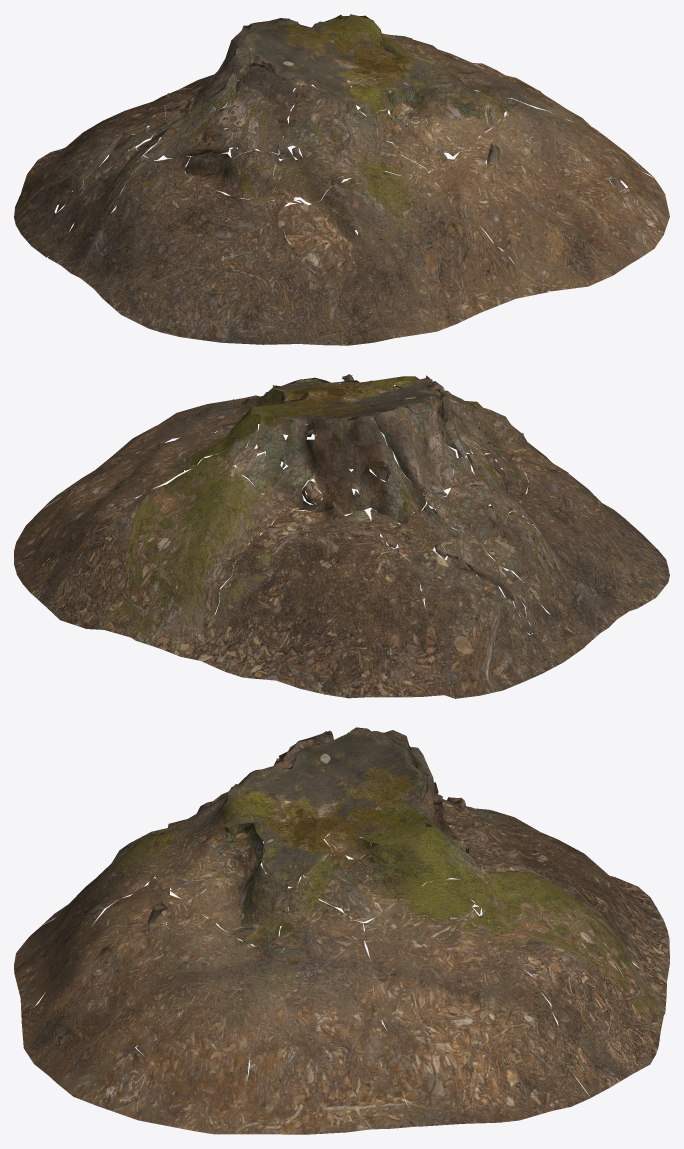
Rendered from ph-tree_stump_02.glb.
3 views of the same model, one above another, from view 1: azimuth 30°, elevation 25°; view 2: azimuth 150°, elevation 25°; view 3: azimuth 270°, elevation 25° (orthographic). The views are drawn at different scales.
Visible parts, largest first — view 1: tree_stump_02; view 2: tree_stump_02; view 3: tree_stump_02.
Boxes of the visible parts, <box> form: tree_stump_02: <box>14,14,669,345</box>; tree_stump_02: <box>14,374,669,698</box>; tree_stump_02: <box>14,727,669,1134</box>.
Bounding box in the file's own units: 1.52 × 0.5201 × 1.39.
1 material, 1 textured.
